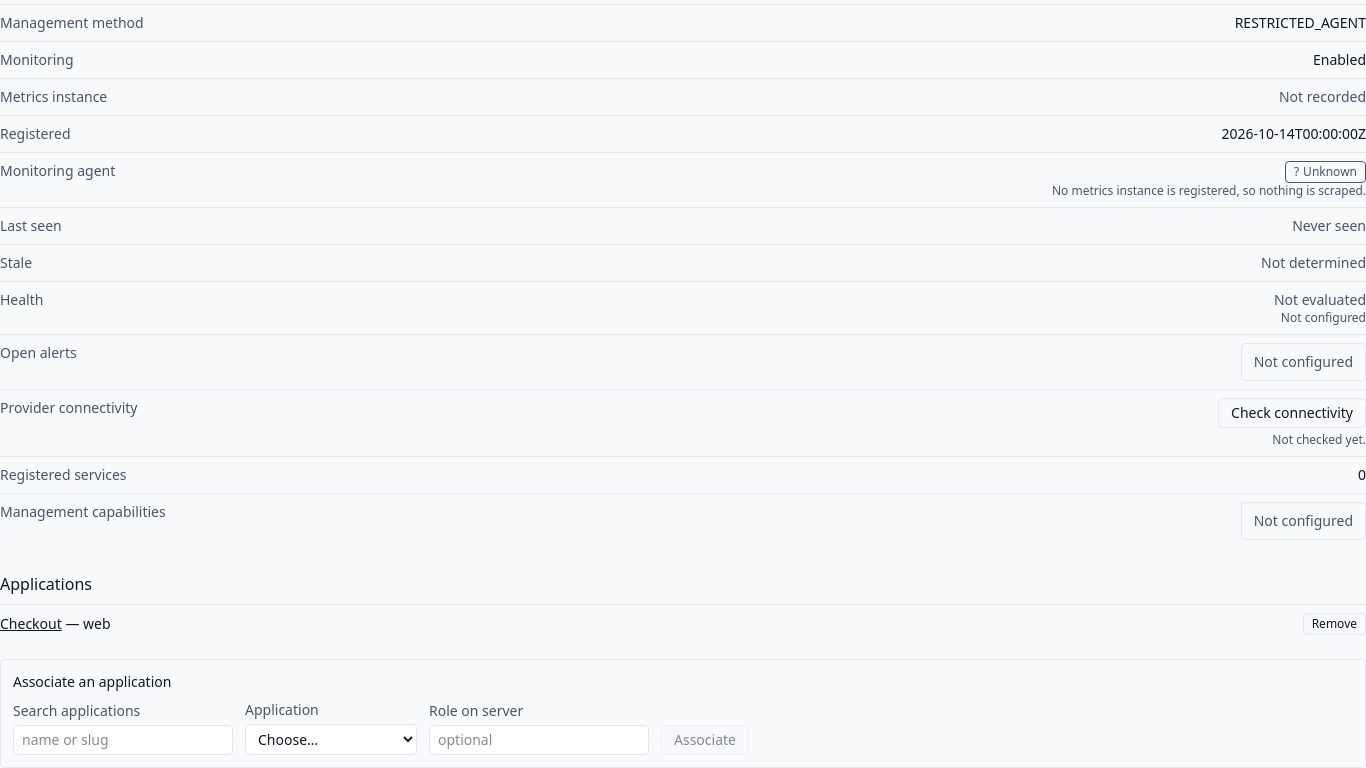
Scenario: ServerDetail associations › reports a refused removal rather than dropping the row from view
The width and height of the screenshot is (1366, 768).
(page scrolled)
Click the button "Remove": (1334, 624) 1303,613 -> 1365,635
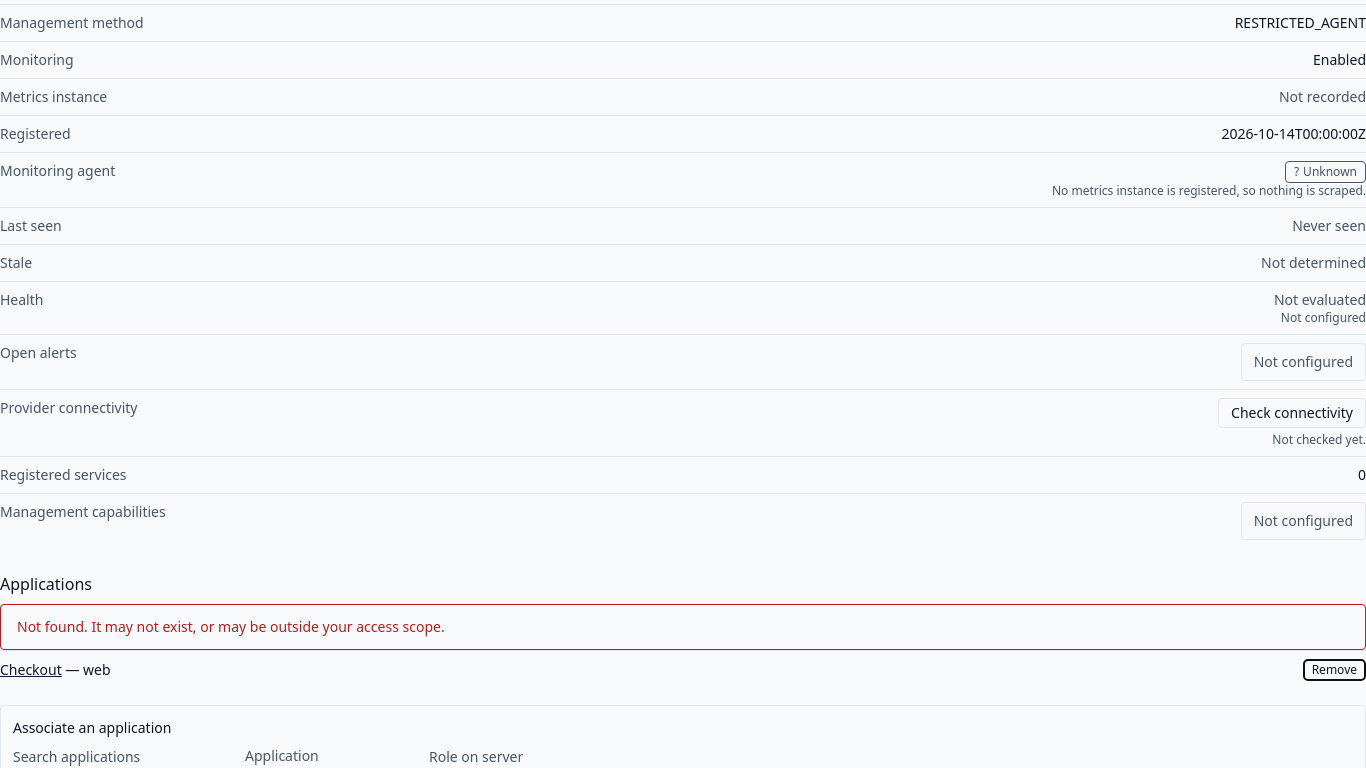
Expected: the link "Checkout" is shown, 0,660 -> 62,679
Now the message shows "Not found", box 17,617 -> 445,636
